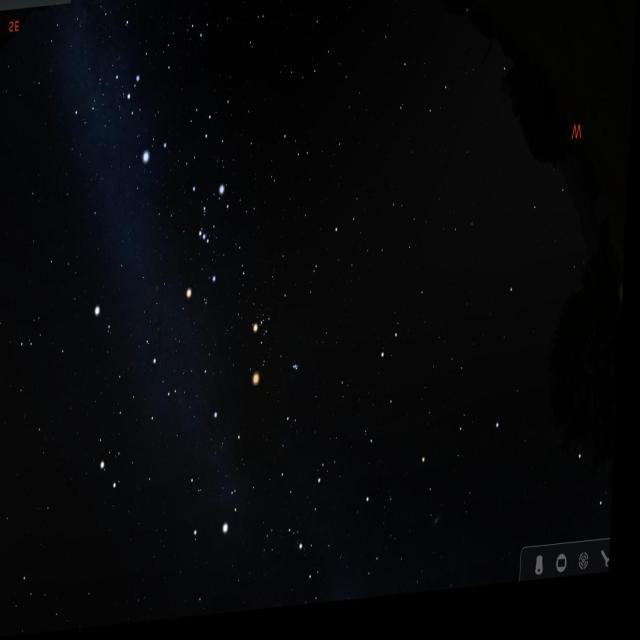canis_major: (121, 71, 176, 181)
canis_minor: (88, 291, 122, 345)
gemini: (104, 325, 192, 506)
orion: (181, 172, 229, 311)
pleiades: (290, 362, 310, 387)
taurus: (247, 279, 332, 396)
